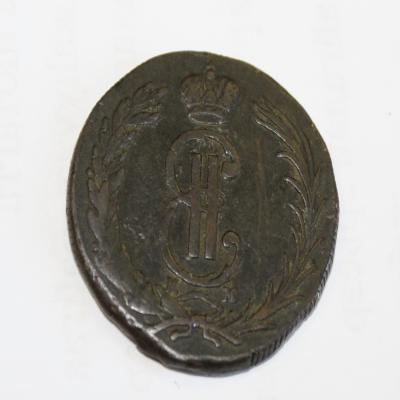numismatics: (67, 51, 339, 375)
